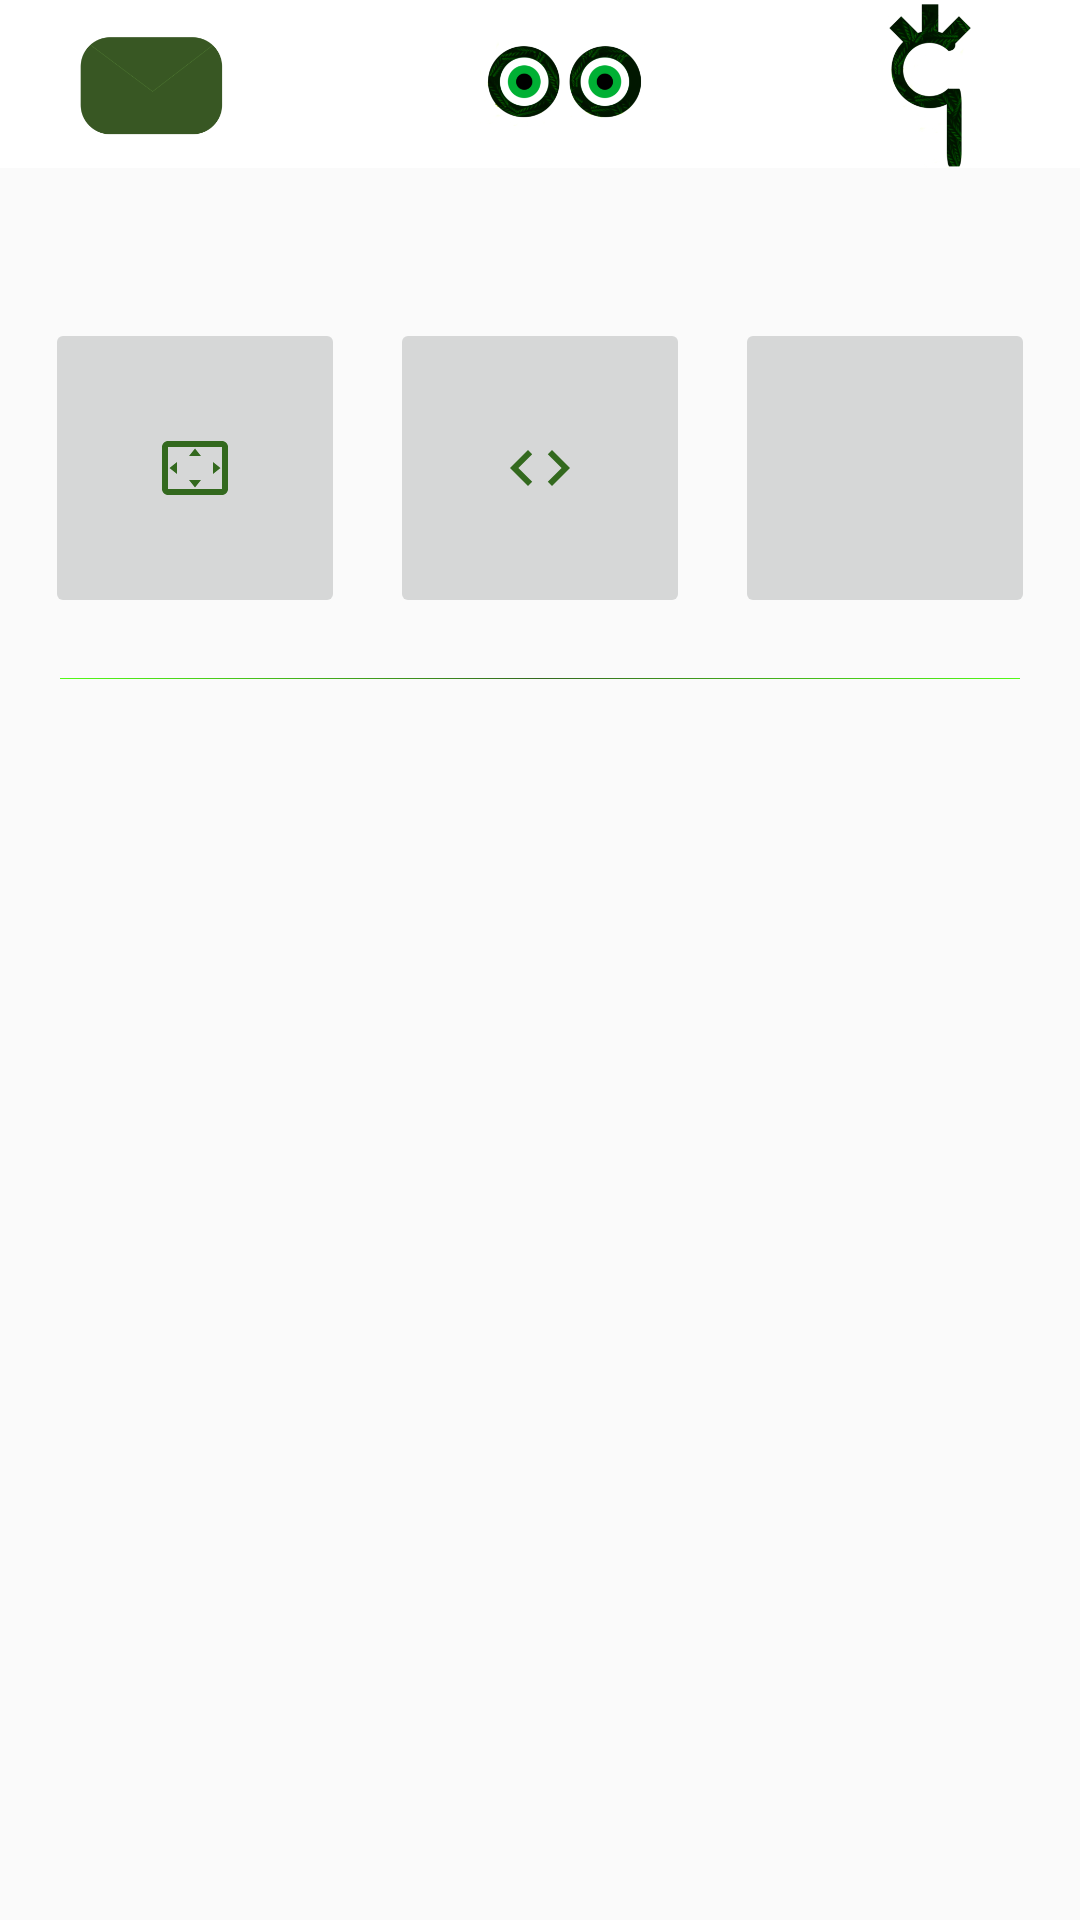

Icon bounding boxes for this 1080w x 1920h phone screenshot, format (x1, y1, x2, y2):
lookaround: (487, 46, 641, 118)
